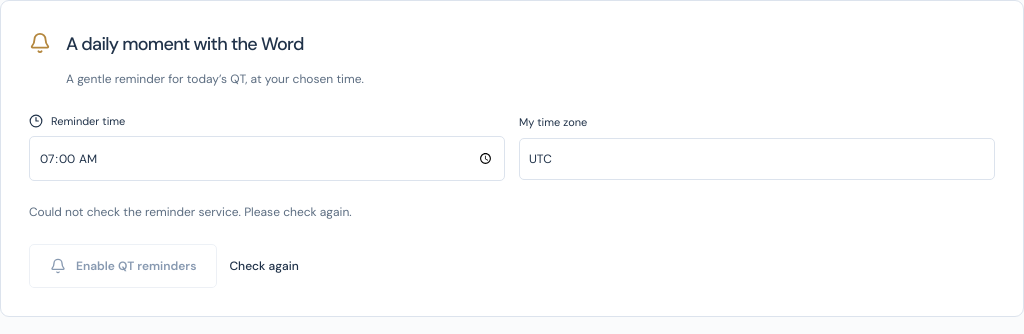
Test: allows retrying a failed readiness check before subscribing
Expected: the button "Enable QT reminders" is disabled, [29, 244, 217, 288]
Step 1. Click the button "Check again" → [264, 266], box [229, 244, 299, 288]
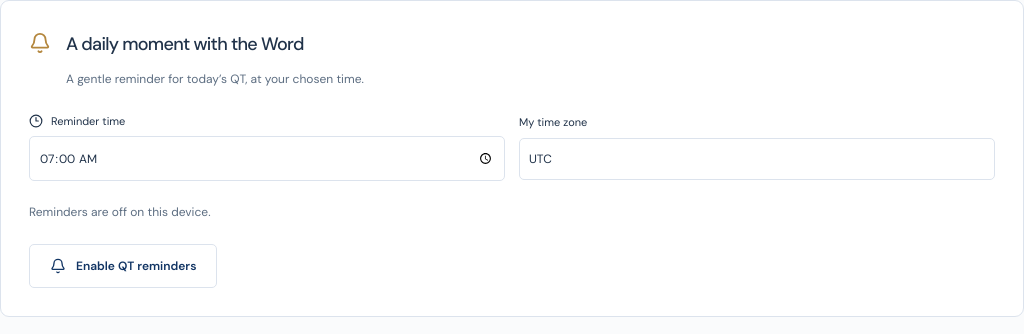
Expected: the button "Enable QT reminders" is enabled, [29, 244, 217, 288]
